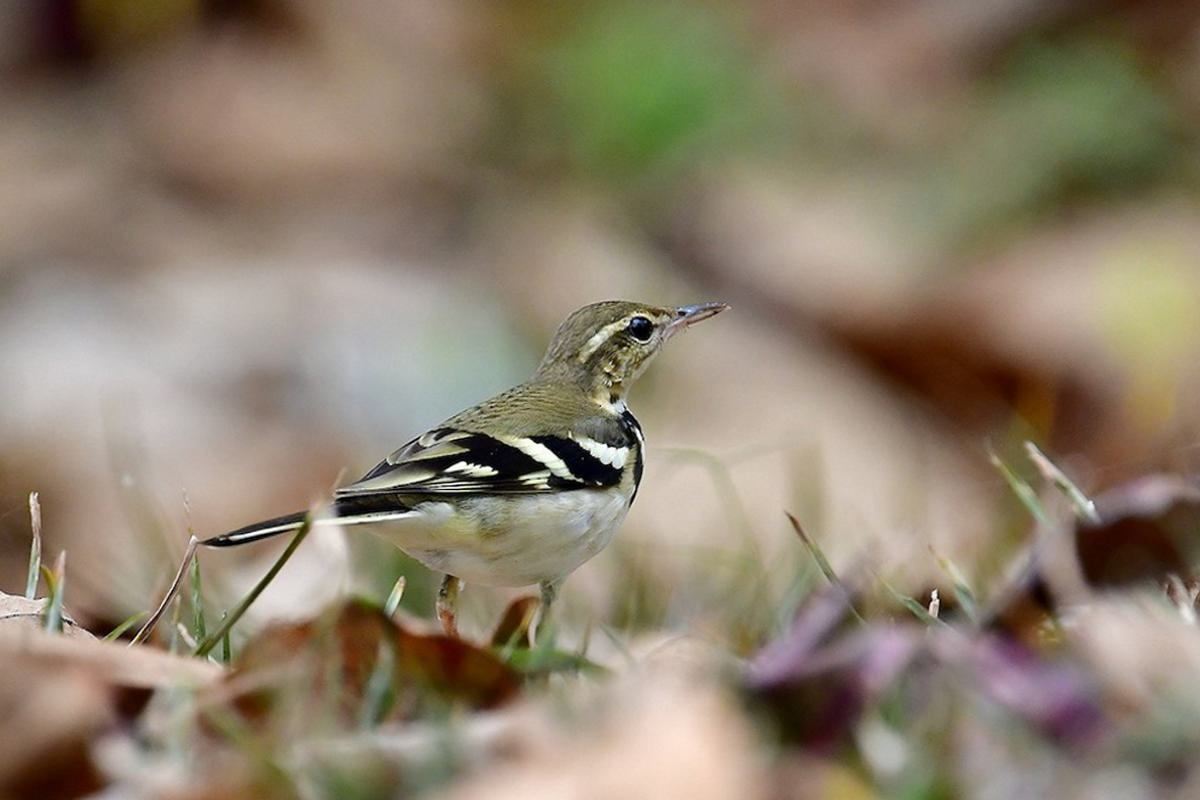wagtail: (254, 256, 760, 594)
